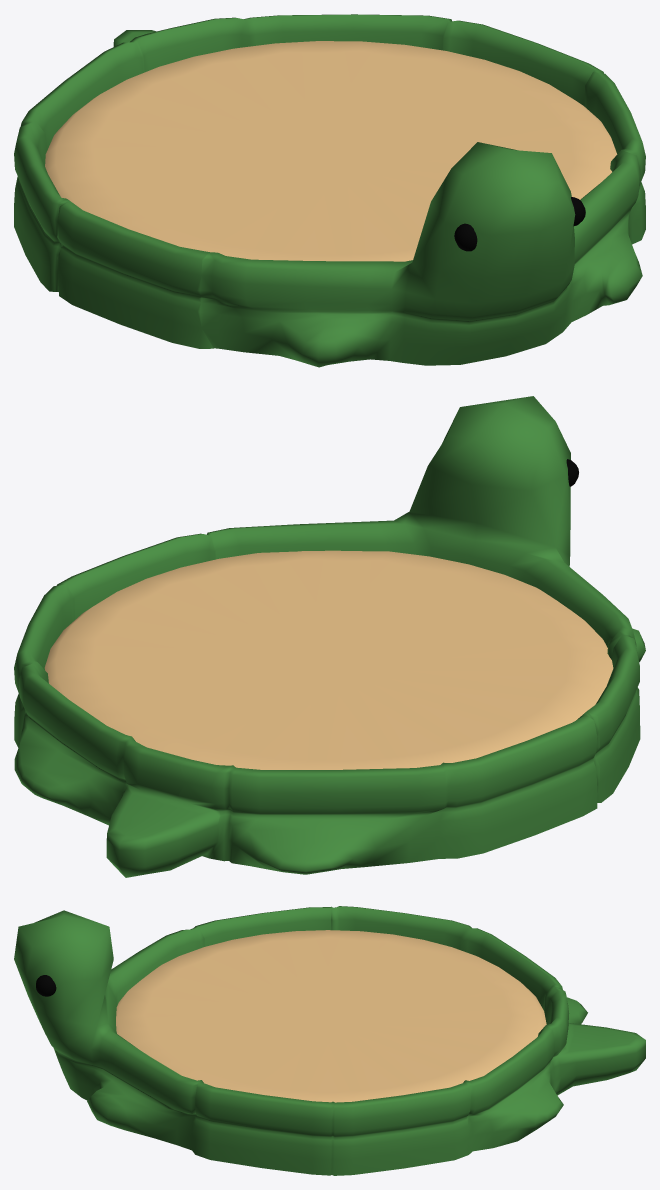
File: turtleSandbox.fbx
The picture shows the model from 3 angles, top to bottom: view 1: azimuth 30°, elevation 25°; view 2: azimuth 150°, elevation 25°; view 3: azimuth 270°, elevation 25°; orthographic projection. The views are drawn at different scales.
Visible parts, largest first — view 1: polySurface1; view 2: polySurface1; view 3: polySurface1.
Part boxes in pixels (x1,y1,x2,y2): polySurface1: [14, 14, 645, 367]; polySurface1: [14, 396, 645, 877]; polySurface1: [14, 906, 645, 1175].
Bounding box in the file's own units: 2.14 × 0.7658 × 2.79.
